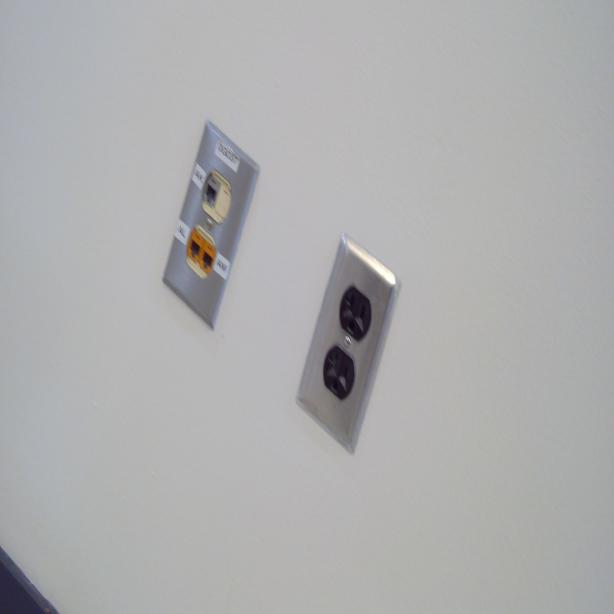typeb: (338, 284, 370, 334), (325, 347, 350, 394)
